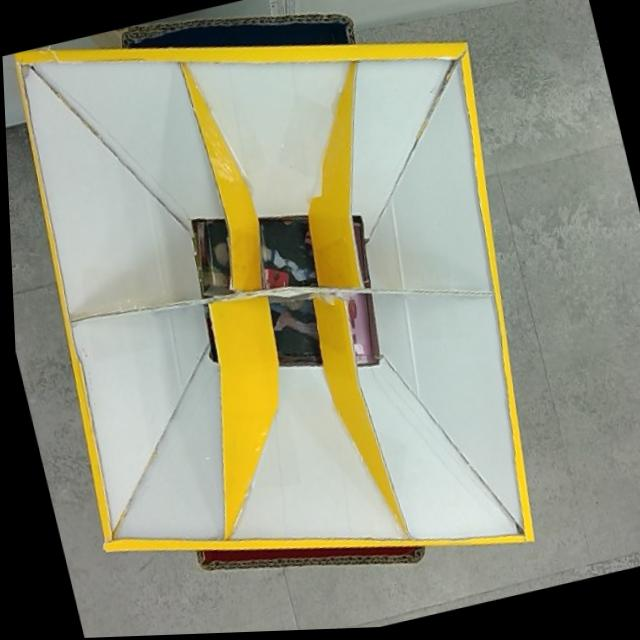box: (0, 0, 584, 640)
